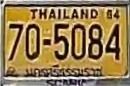0: (25, 23, 39, 59), (71, 23, 85, 59)
4: (105, 23, 119, 59)
5: (54, 23, 68, 59)
7: (8, 23, 22, 60)
8: (87, 23, 102, 59)
NST: (22, 62, 107, 80)
